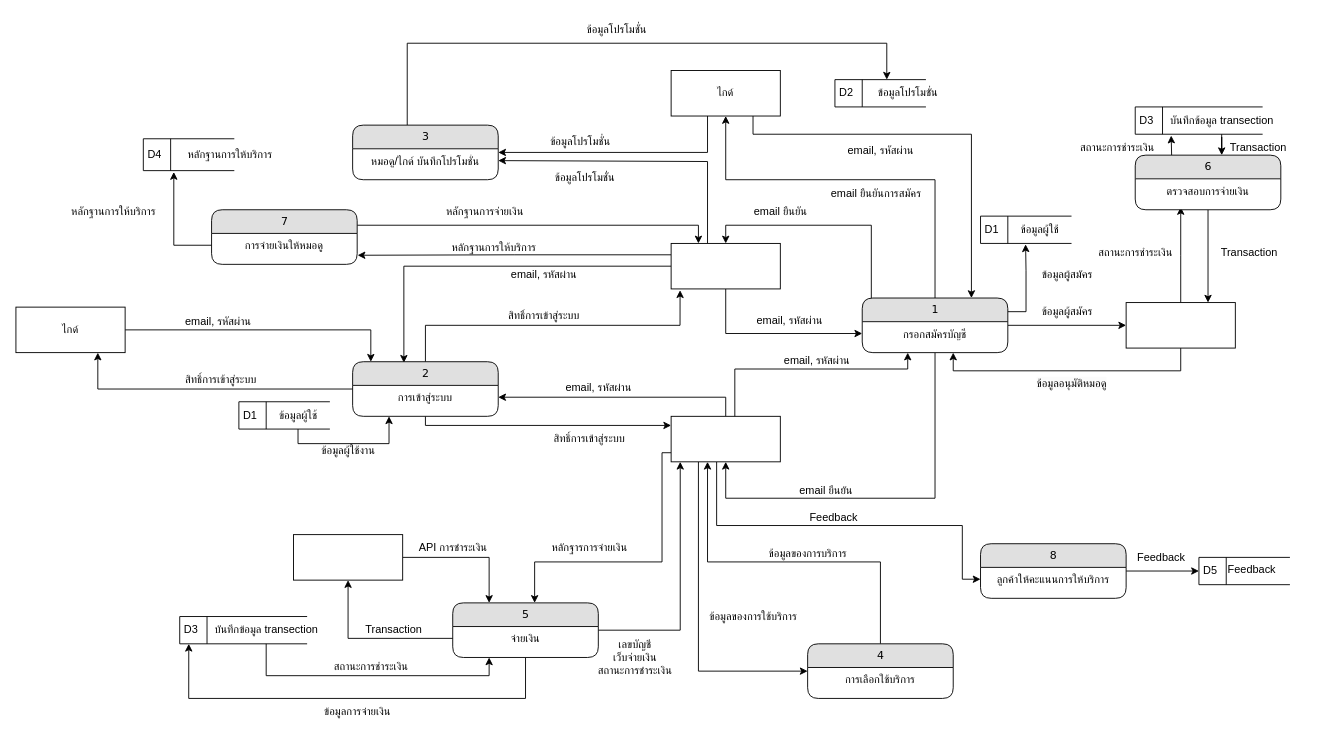
Image size: 1333x741. Some labels were removed from this diagram. The centre of each missing label's shape, as x and y in pixels:
Admin: the point at 1180,325
ธนาคาร: the point at 348,557
ลูกค้า: the point at 725,438
หมอดู: the point at 725,266
